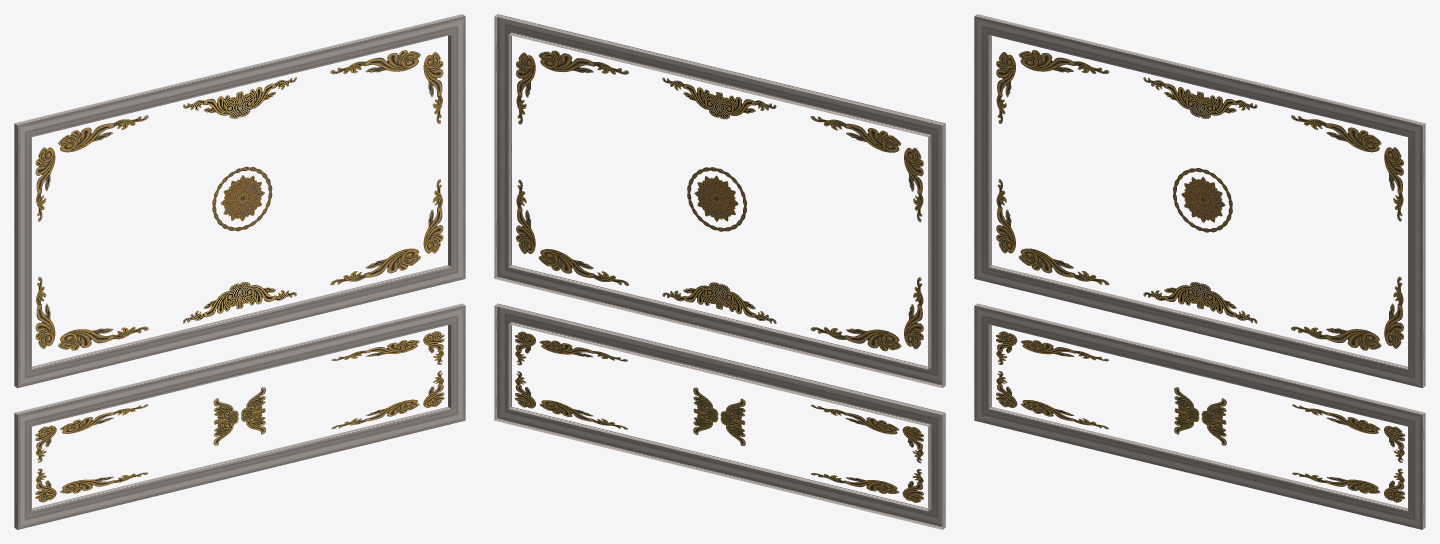
File: Room02_WallA.FBX
3 renders of one model, left to right at view 1: azimuth 30°, elevation 25°; view 2: azimuth 150°, elevation 25°; view 3: azimuth 330°, elevation 25°, orthographic.
Parts seen in each view (by area): view 1: Room02_WallA; view 2: Room02_WallA; view 3: Room02_WallA.
Boxes of the visible parts, box(x1,y1,x2,y2) form: Room02_WallA: box(14, 14, 465, 529); Room02_WallA: box(494, 14, 945, 529); Room02_WallA: box(974, 14, 1425, 529).
Bounding box in the file's own units: 501 × 6.15 × 432.
